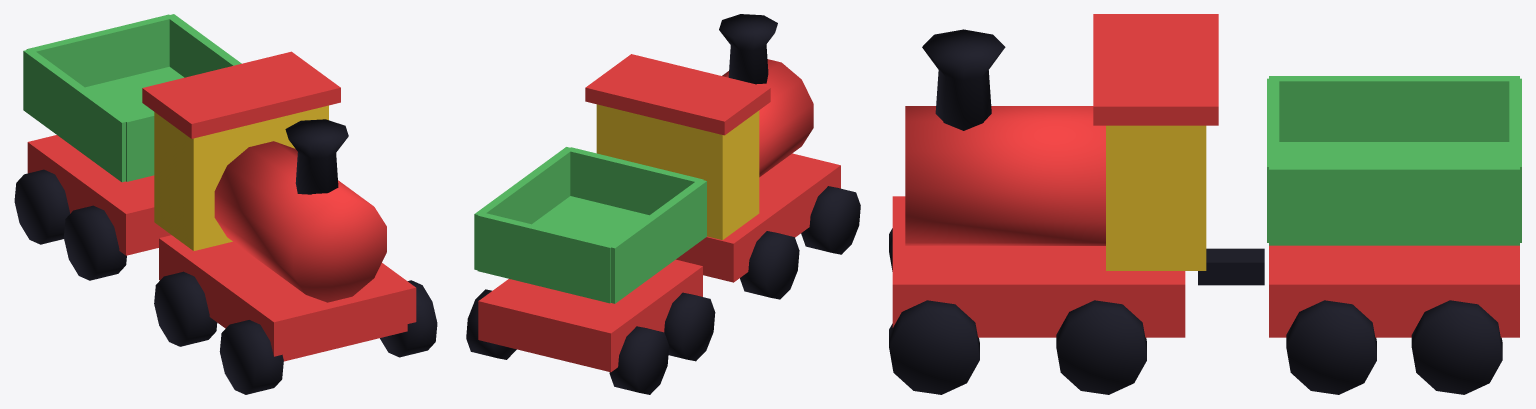
The model's file is Train.fbx.
3 views of the same model, side by side, from view 1: azimuth 30°, elevation 25°; view 2: azimuth 150°, elevation 25°; view 3: azimuth 270°, elevation 25° (orthographic). The views are drawn at different scales.
Visible parts, largest first — view 1: Train; view 2: Train; view 3: Train.
Boxes of the visible parts, x1=… form: Train: x1=14, y1=14, x2=437, y2=394; Train: x1=466, y1=14, x2=860, y2=394; Train: x1=889, y1=14, x2=1521, y2=394.
Bounding box in the file's own units: 0.064 × 0.0769 × 0.1514.
